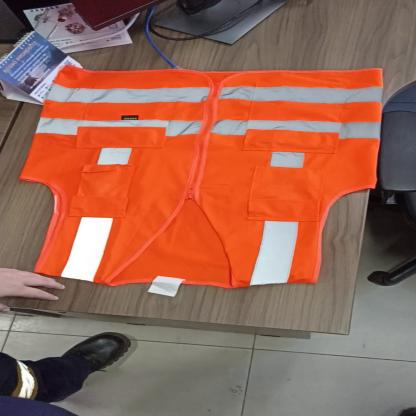colete: (30, 61, 400, 293)
